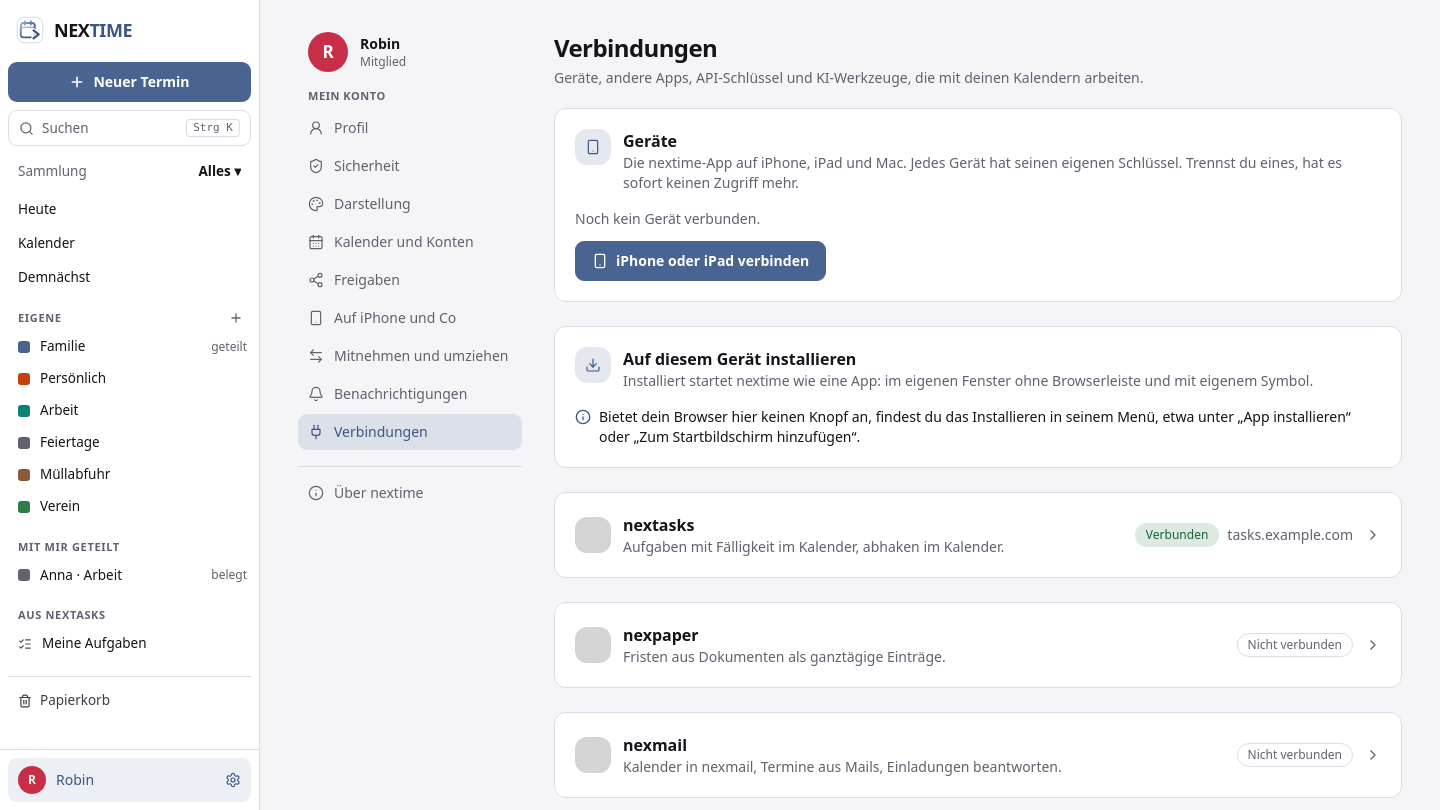
Test: TIME-25 the connection › TIME-25 AC-8 "Trennen" asks first, then the connection goes
Later steps or results of the test are not shown.
Click the button that starts with "nextasks" at [978, 535], box [575, 513, 1381, 557]
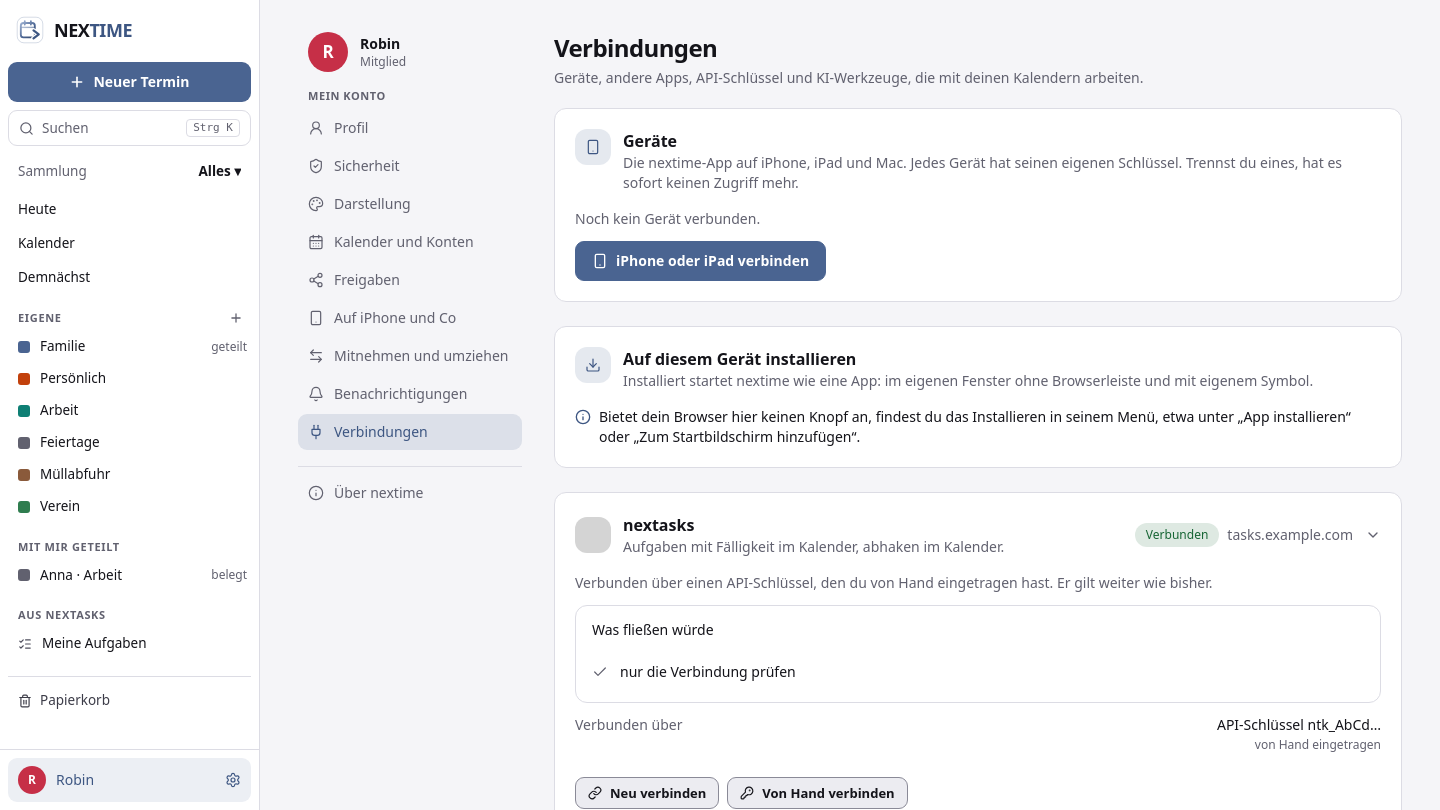
Click the button with test id "connection-manual" at [817, 793], box [727, 777, 908, 809]
(page scrolled)
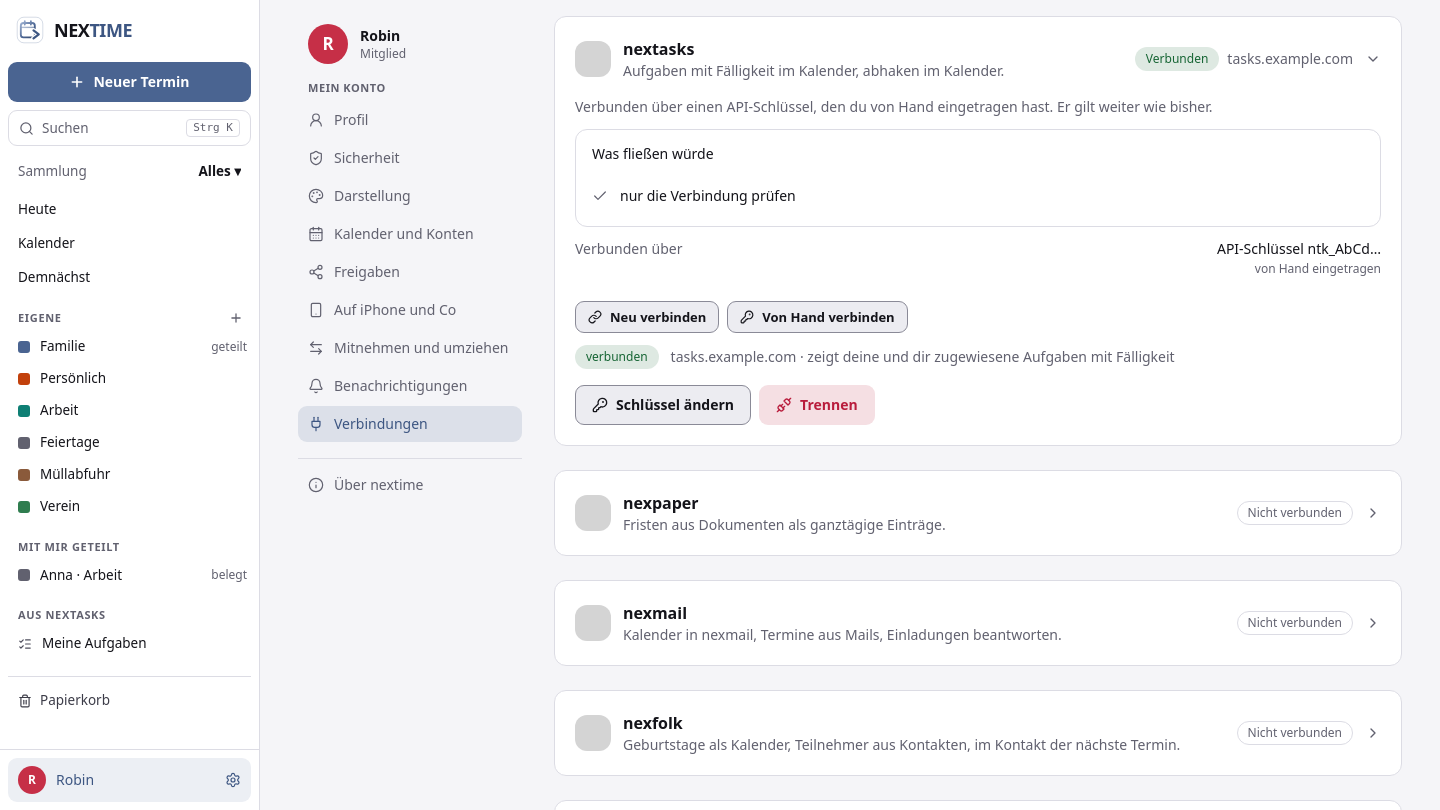
Click the button "Trennen" at [817, 405], box [759, 385, 875, 425]
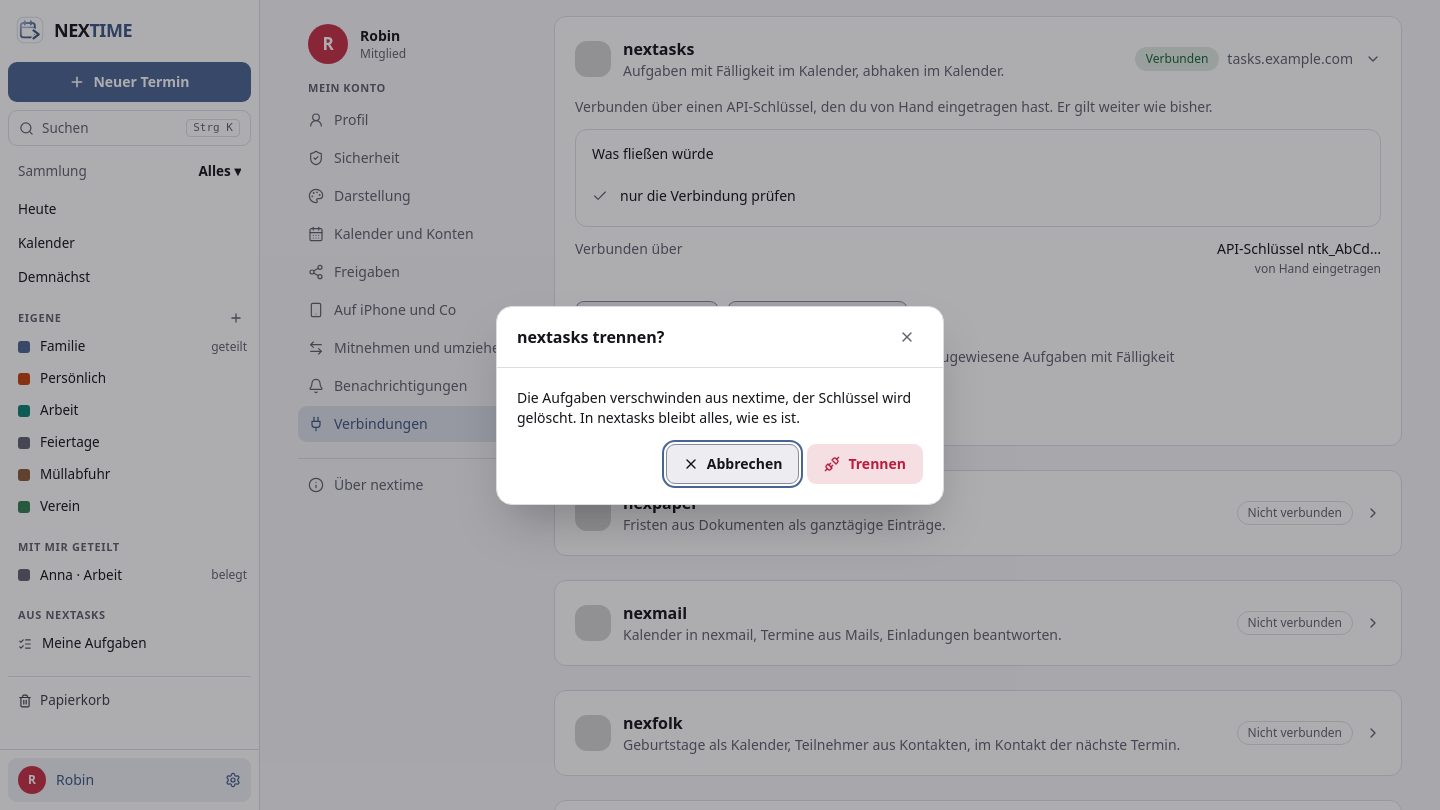
Expected: the dialog shows "In nextasks bleibt alles, wie es ist.", [517, 388, 911, 426]
